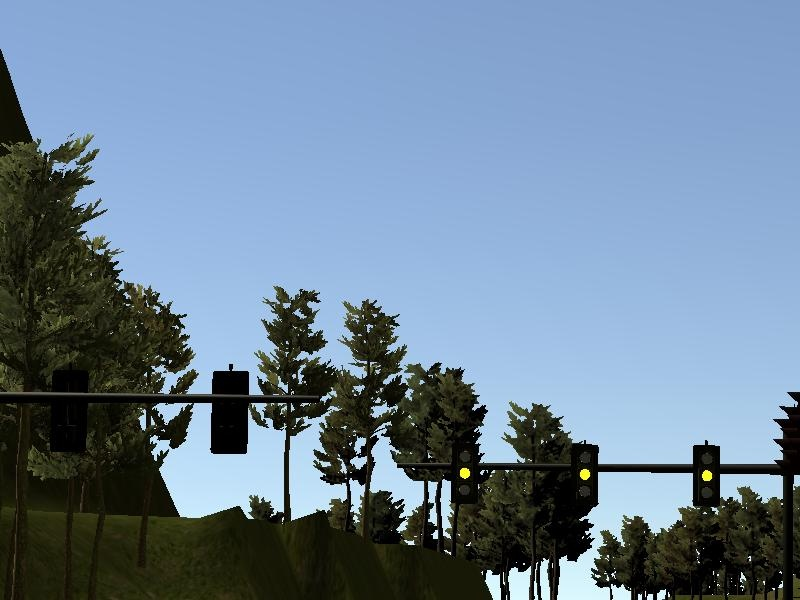YELLOW: (692, 442, 721, 507), (568, 442, 597, 507), (450, 437, 479, 502)
